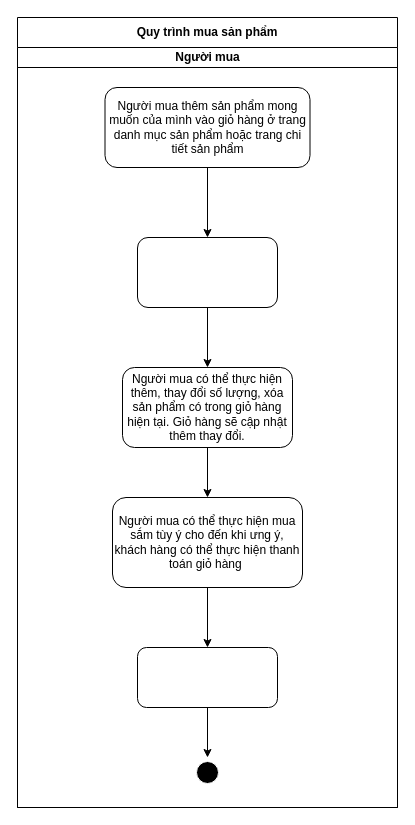
This 415x825 diagram has some shape labels left out. The shapes that lost their labels are listed below. From the top down, each one's centre as x and y in pixels, then its label:
the point at 207,272: Giỏ hàng tự dộng tính toán giá tiền của giỏ hàng
the point at 207,677: Khách hàng điền thông tin giao hàng và thực hiện thanh toán
